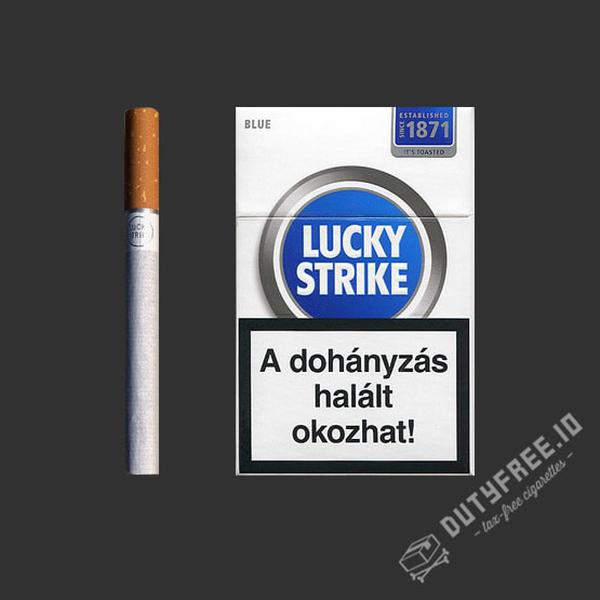lucky_strike_blue: (237, 109, 468, 476)
